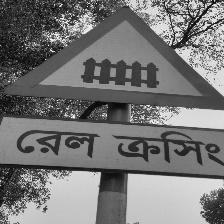Rail-crossing: (1, 6, 222, 177)
